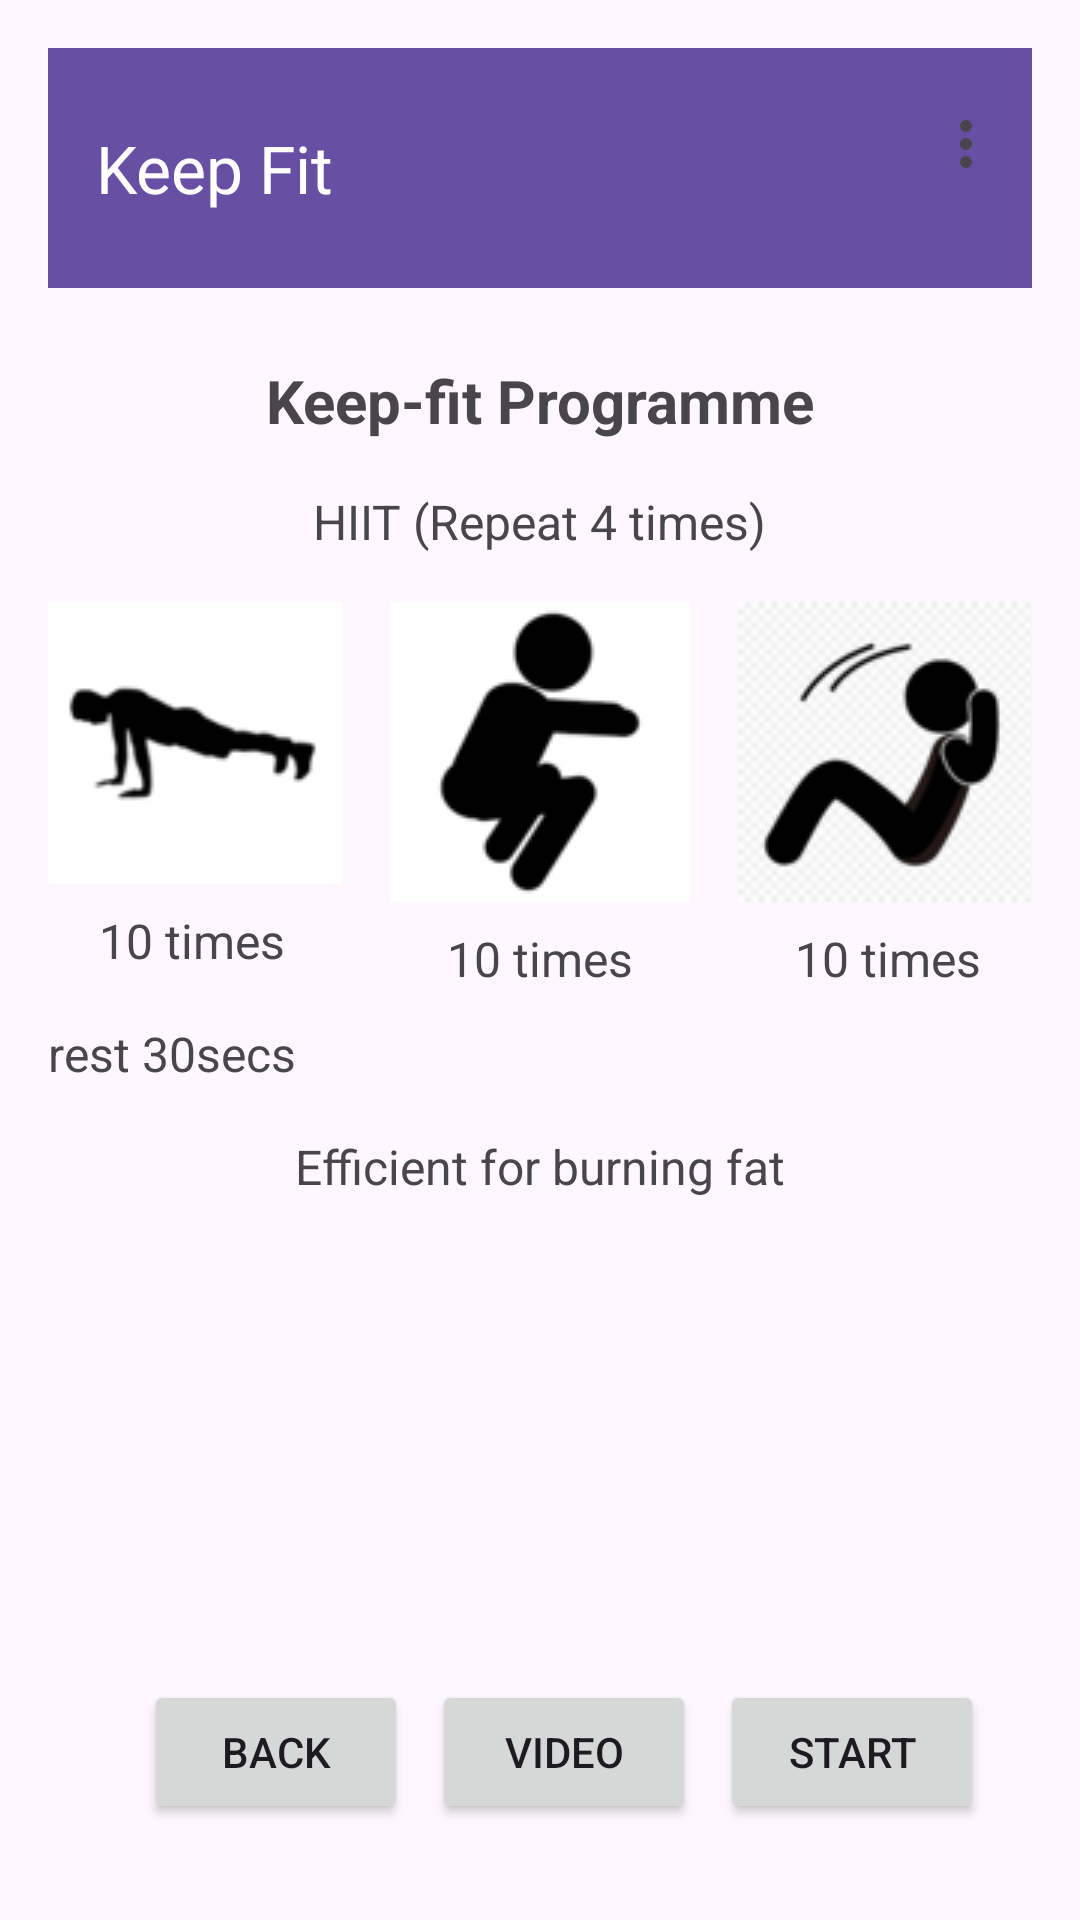

Locate icon controls on the screen. Image size 1080×1920, boxes as BBox(x1, y1, x2, y2).
pushup: BBox(69, 686, 316, 800)
situp: BBox(763, 642, 1000, 867)
squat: BBox(440, 611, 640, 892)
